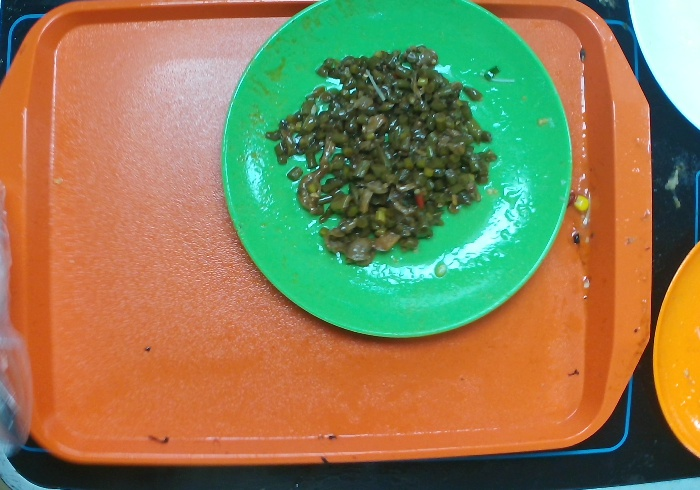HZYJPL-Lv_Se_Yuan_Pan: (216, 1, 578, 344)
